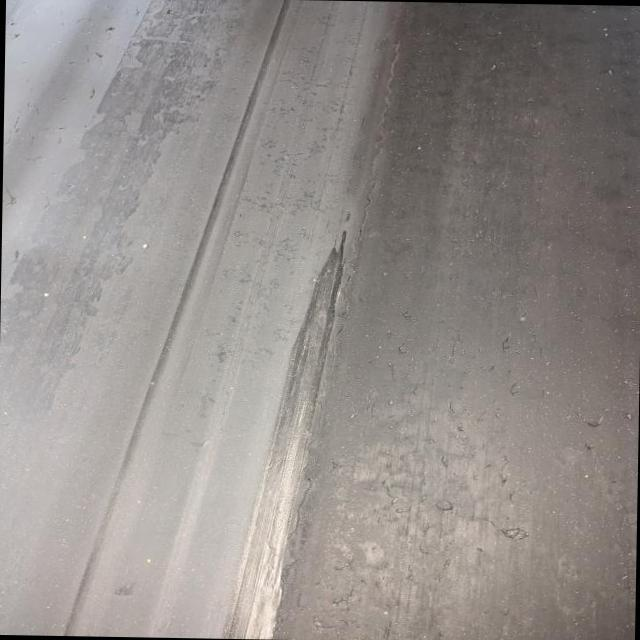Wear: (59, 0, 292, 639), (224, 210, 358, 639)
